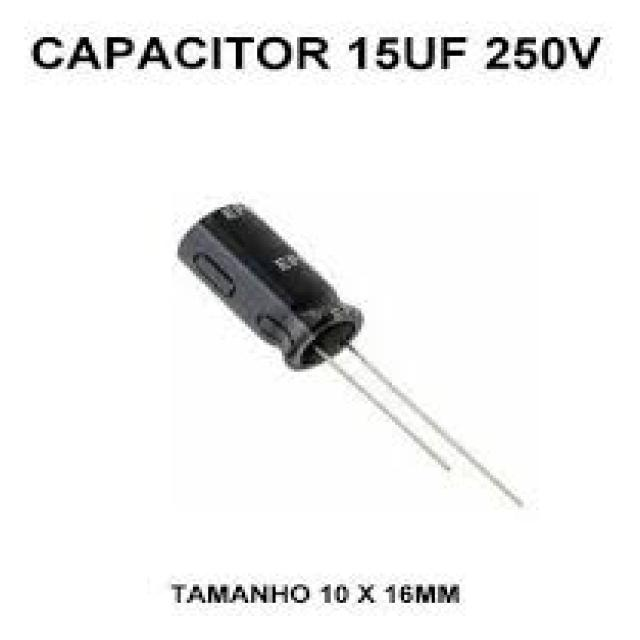Capacitor: (178, 207, 527, 507)
